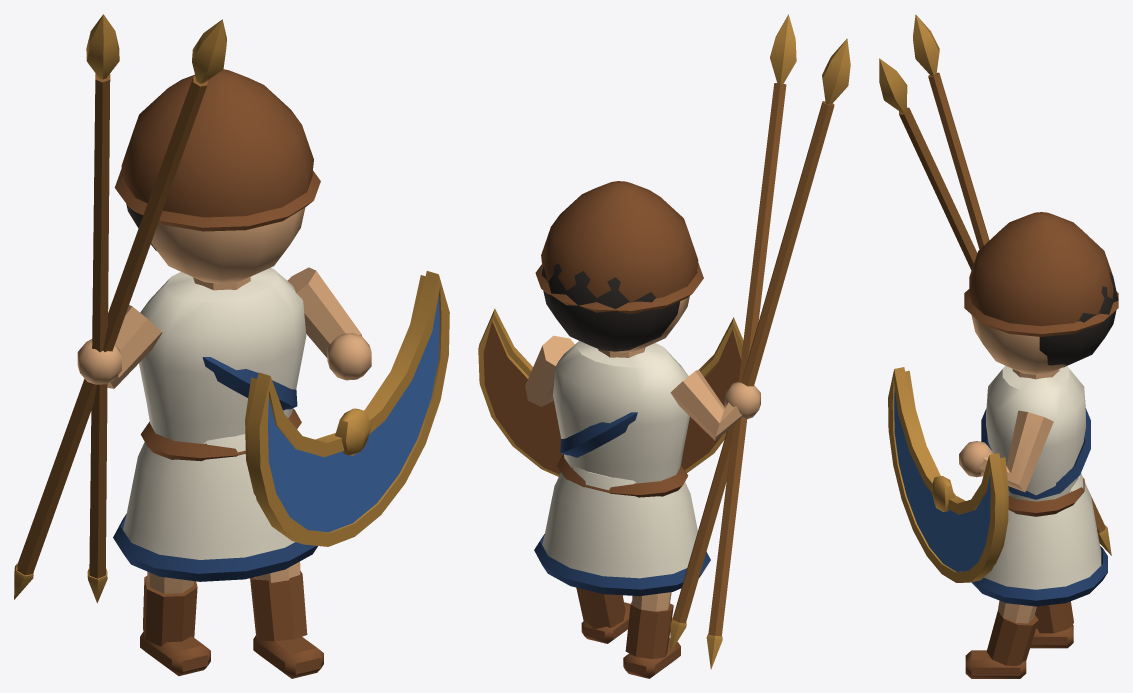
Rendered from skirmisher.glb.
3 renders of one model, left to right at view 1: azimuth 30°, elevation 25°; view 2: azimuth 150°, elevation 25°; view 3: azimuth 270°, elevation 25°, orthographic. The views are drawn at different scales.
Parts seen in each view (by area): view 1: skirmisher; view 2: skirmisher; view 3: skirmisher.
Part boxes in pixels (box(x1,y1,x2,y2)): skirmisher: box(14, 14, 449, 678); skirmisher: box(478, 14, 850, 678); skirmisher: box(879, 14, 1118, 678).
Bounding box in the file's own units: 0.5457 × 0.9556 × 0.3625.
